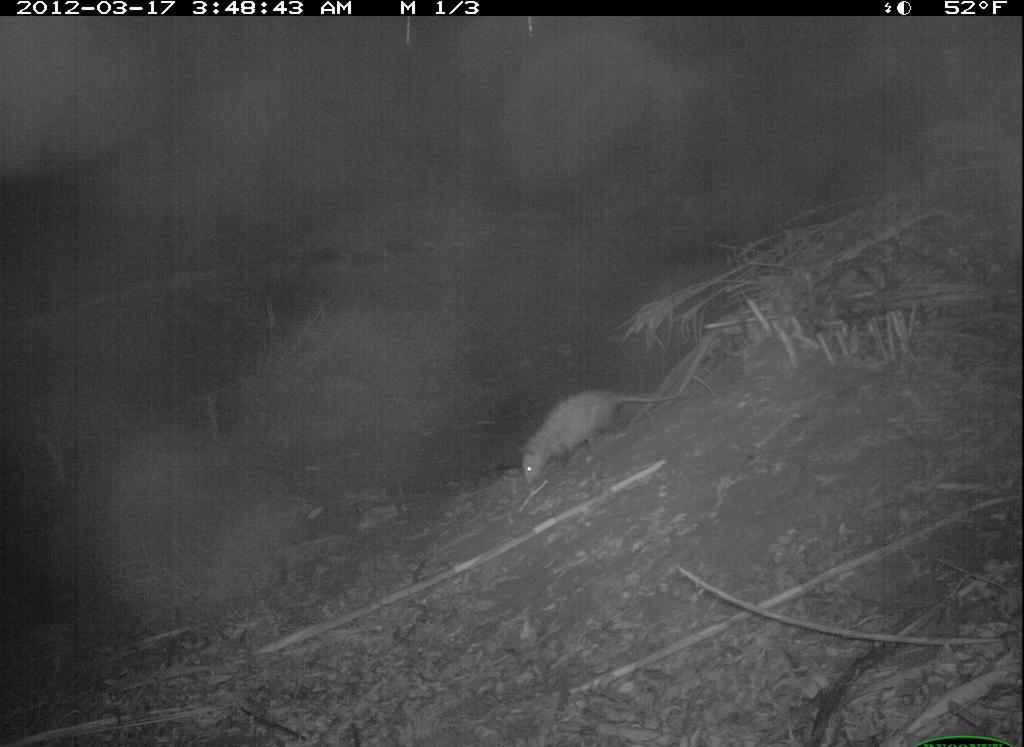opossum: (513, 382, 685, 489)
